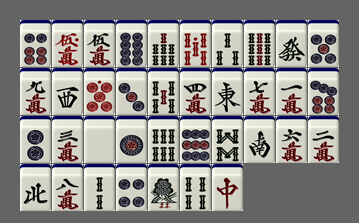0m: (52, 20, 83, 67)
0p: (84, 68, 115, 115)
0s: (180, 20, 211, 67)
1m: (276, 68, 307, 115)
1p: (116, 116, 147, 163)
1s: (148, 164, 179, 211)
1z: (212, 68, 243, 115)
2m: (308, 116, 339, 163)
2p: (20, 116, 51, 163)
2s: (84, 164, 115, 211)
2z: (244, 116, 275, 163)
3m: (52, 116, 83, 163)
3p: (116, 68, 147, 115)
3s: (212, 20, 243, 67)
3z: (52, 68, 83, 115)
4m: (180, 68, 211, 115)
4p: (116, 164, 147, 211)
4s: (180, 164, 211, 211)
4z: (20, 164, 51, 211)
5m: (84, 20, 115, 67)
5p: (308, 20, 339, 67)
5s: (148, 68, 179, 115)
5z: (84, 116, 115, 163)
6m: (276, 116, 307, 163)
6p: (20, 20, 51, 67)
6s: (148, 116, 179, 163)
6z: (276, 20, 307, 67)
7m: (244, 68, 275, 115)
7p: (308, 68, 339, 115)
7s: (148, 20, 179, 67)
7z: (212, 164, 243, 211)
8m: (52, 164, 83, 211)
8p: (116, 20, 147, 67)
8s: (212, 116, 243, 163)
9m: (20, 68, 51, 115)
9p: (180, 116, 211, 163)
9s: (244, 20, 275, 67)
